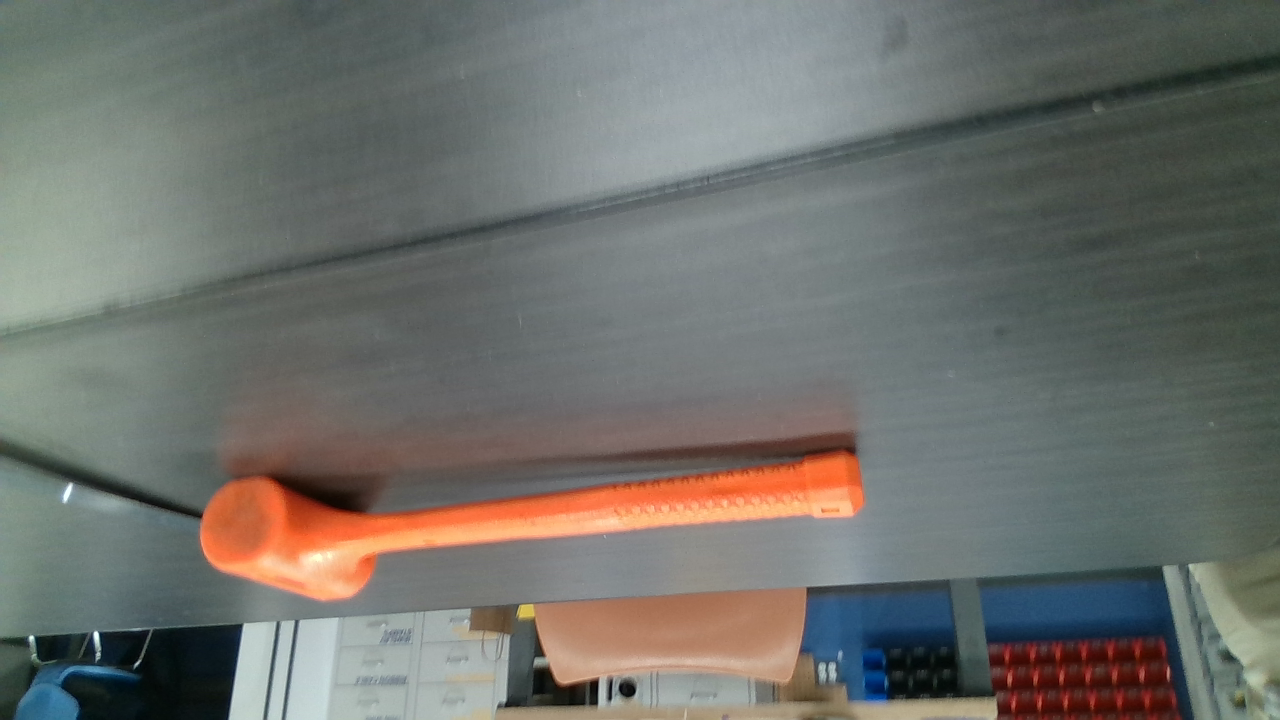Orange Hammer: (205, 446, 864, 600)
